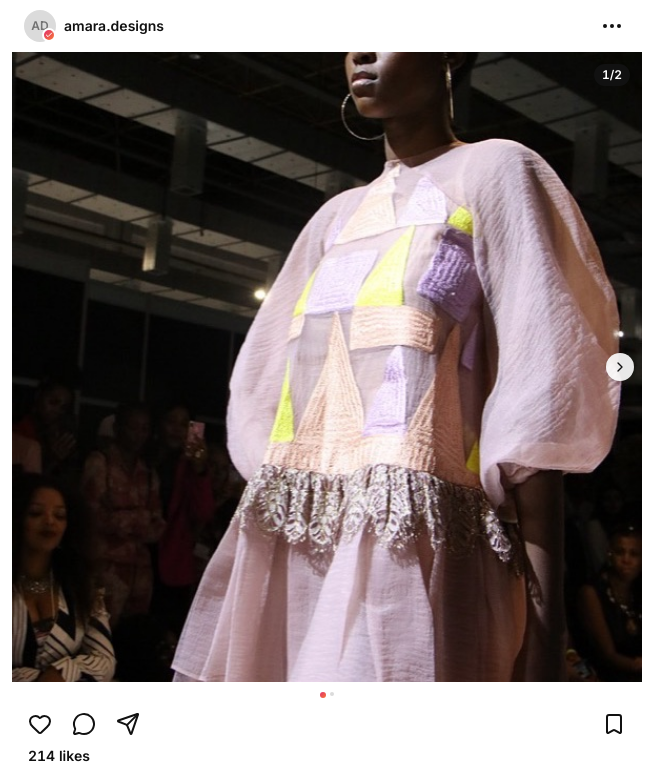
Test: PostCard (§3 anatomy + §8.2) › carousel advances via the chevrons (MI-4)
The width and height of the screenshot is (659, 768).
Step 1. Click the button named "Next image" → {"x": 620, "y": 367}, box [606,353,634,381]
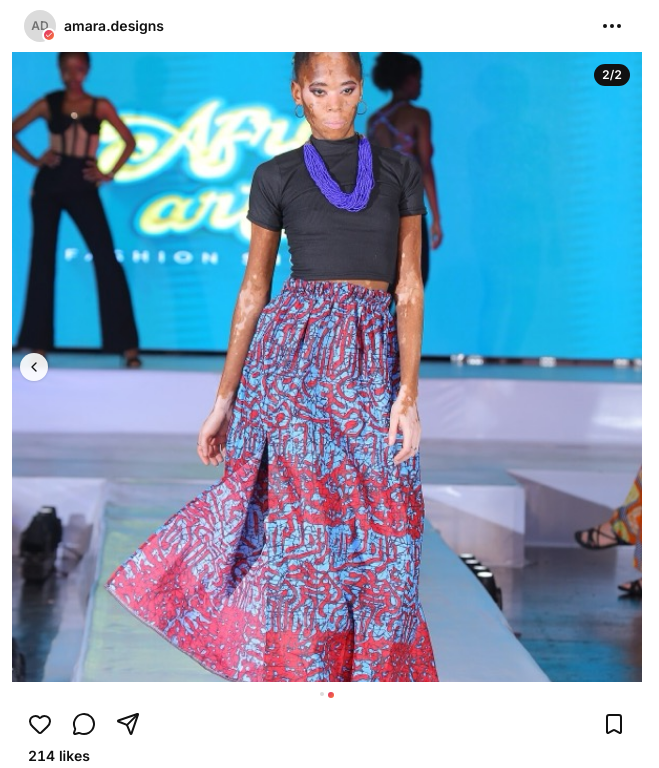
Now the button named "Previous image" is shown, box [20,353,48,381]
